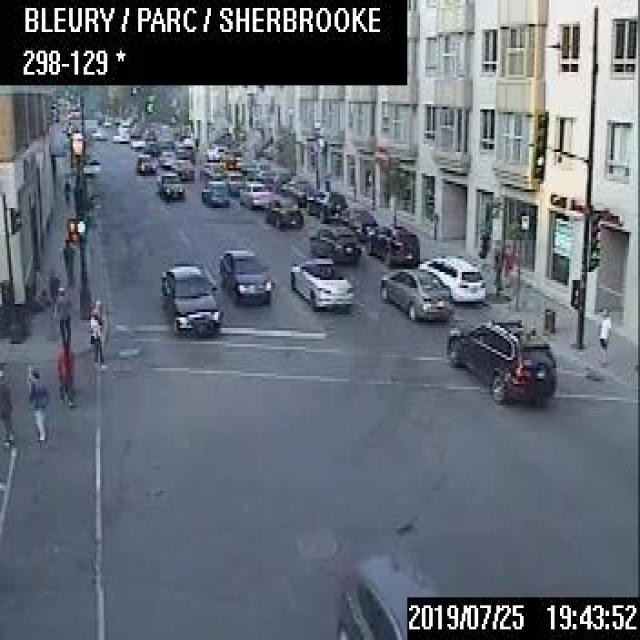pedestrian: (26, 363, 48, 441), (55, 338, 73, 405), (86, 296, 103, 360), (53, 286, 70, 347), (0, 360, 11, 445), (59, 236, 76, 288), (596, 309, 609, 363), (386, 192, 396, 224), (61, 176, 70, 203)
vehicle: (331, 544, 438, 637), (446, 318, 555, 401), (158, 258, 222, 338), (378, 267, 452, 319), (218, 243, 273, 304), (288, 255, 352, 307), (417, 254, 485, 301), (363, 223, 418, 265), (308, 223, 359, 260), (337, 204, 377, 239), (263, 193, 302, 226), (305, 189, 346, 220), (237, 179, 272, 207), (279, 176, 313, 203), (155, 171, 184, 200), (200, 179, 228, 204), (262, 166, 290, 191), (221, 168, 243, 193), (245, 159, 270, 180), (171, 157, 194, 178), (173, 141, 195, 162), (198, 160, 222, 179), (219, 147, 241, 167), (204, 141, 225, 160), (135, 152, 154, 172), (157, 148, 175, 165), (142, 139, 159, 154), (178, 130, 192, 145)
